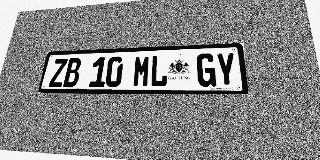0: (105, 56, 124, 87)
1: (89, 57, 108, 87)
B: (63, 58, 82, 87)
G: (197, 53, 216, 87)
L: (150, 55, 168, 87)
M: (132, 55, 151, 87)
Y: (215, 52, 237, 87)
Z: (48, 58, 68, 87)
